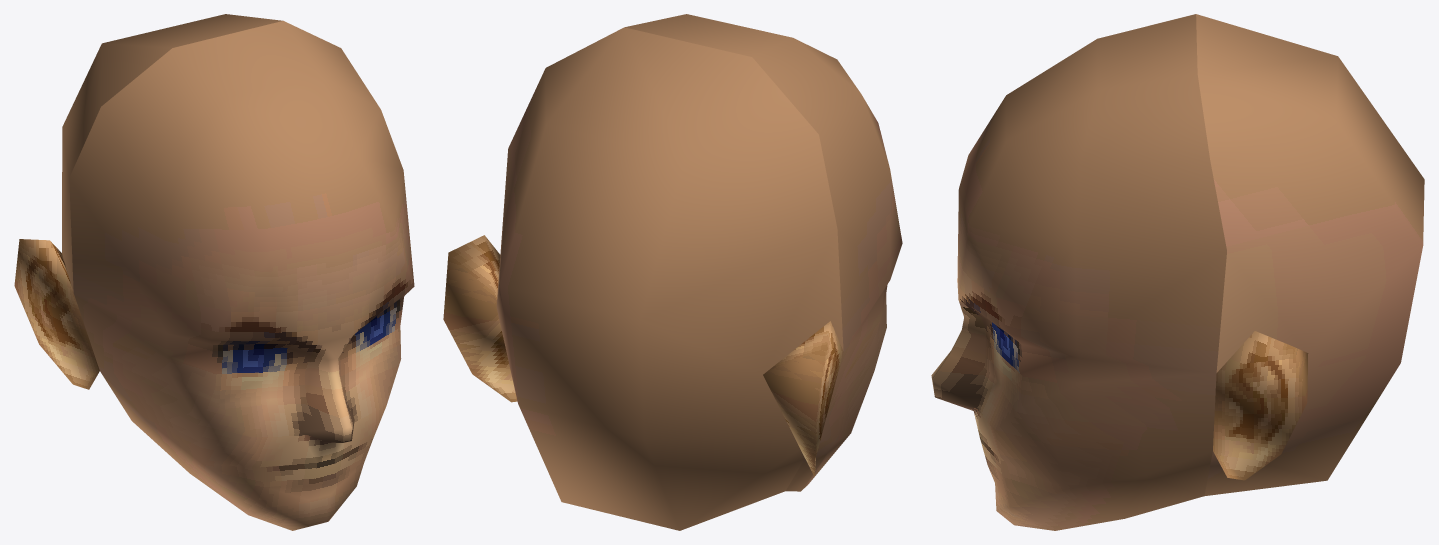
The model's file is HUmar head.obj.
3 renders of one model, left to right at view 1: azimuth 30°, elevation 25°; view 2: azimuth 150°, elevation 25°; view 3: azimuth 270°, elevation 25°, orthographic. The views are drawn at different scales.
Visible parts, largest first — view 1: objg_plAhed00_1, objg_plAhed00_2; view 2: objg_plAhed00_1, objg_plAhed00_2; view 3: objg_plAhed00_1, objg_plAhed00_2.
Boxes of the visible parts, bbox=[...] form: objg_plAhed00_1: bbox=[62, 14, 414, 530]; objg_plAhed00_2: bbox=[14, 239, 99, 389]; objg_plAhed00_1: bbox=[496, 14, 902, 530]; objg_plAhed00_2: bbox=[443, 235, 843, 476]; objg_plAhed00_1: bbox=[931, 14, 1424, 530]; objg_plAhed00_2: bbox=[1213, 331, 1308, 480].
Size of the model in its own units: 0.7551 by 0.9387 by 0.8858.
Materials: 2 (2 with a texture image).
